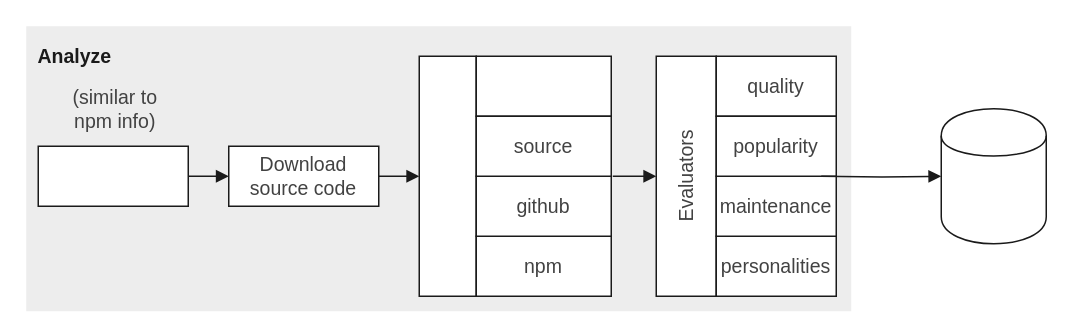
Image size: 1073x336. Some labels were removed from this diagram. Here are the shapes that lost their labels. From the top down, the centre of each, then its label:
At pixel 543 85: "metadata".
At pixel 112 175: "Module data".
At pixel 447 175: "Collectors".
At pixel 993 175: "npms couchdb".
